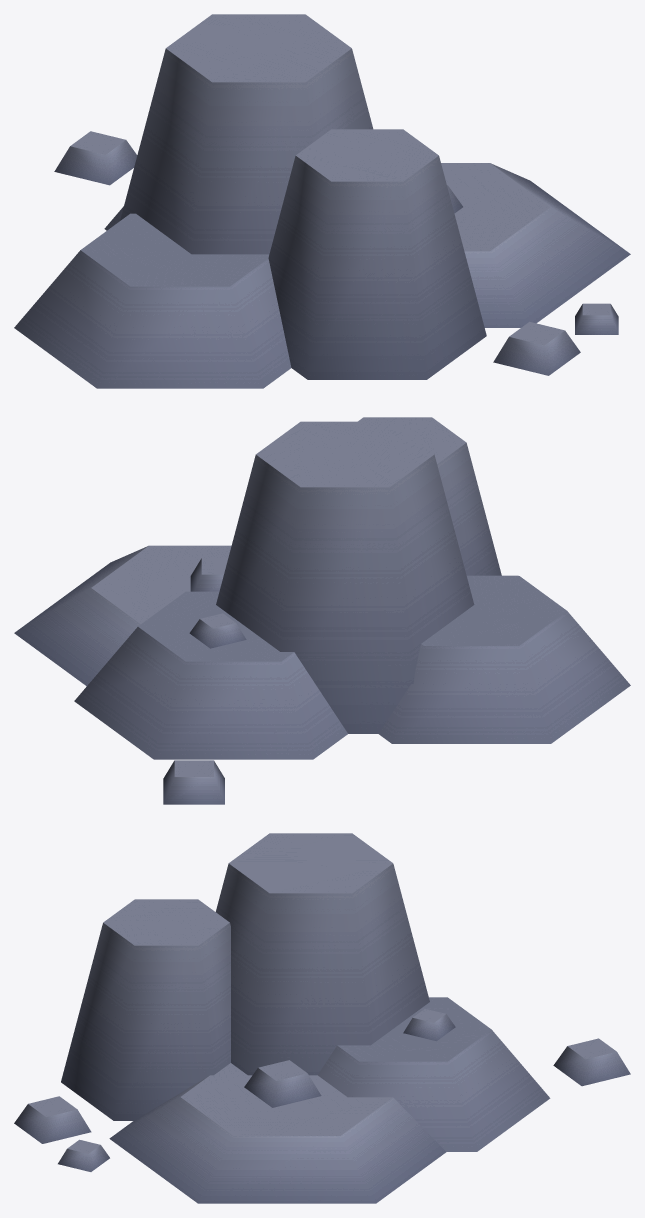
File: rocks-large.glb
3 renders of one model, top to bottom at view 1: azimuth 30°, elevation 25°; view 2: azimuth 150°, elevation 25°; view 3: azimuth 270°, elevation 25°, orthographic. The views are drawn at different scales.
Parts seen in each view (by area): view 1: rocks-large; view 2: rocks-large; view 3: rocks-large.
Part boxes in pixels (x1,y1,x2,y2): rocks-large: [14, 14, 630, 388]; rocks-large: [14, 417, 630, 804]; rocks-large: [14, 833, 630, 1203].
Bounding box in the file's own units: 1.2 × 0.5 × 1.35.
Materials: 1 (1 with a texture image).
